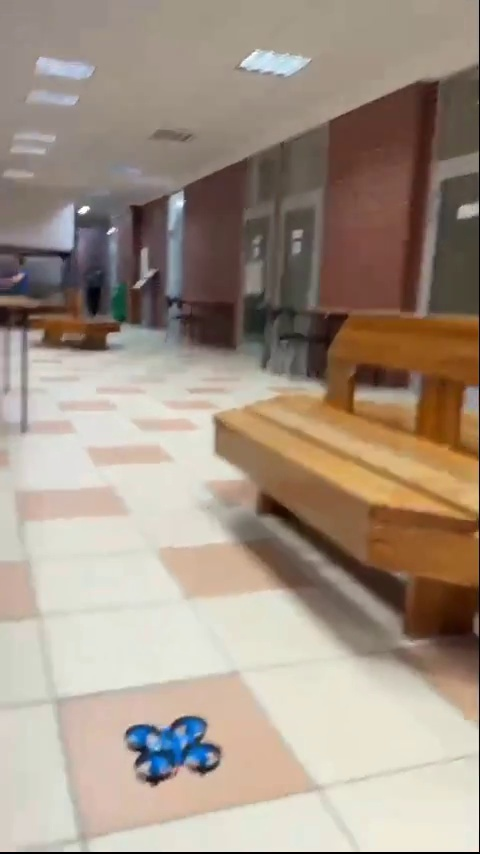drone: (120, 715, 218, 778)
no vest: (78, 255, 108, 322)
